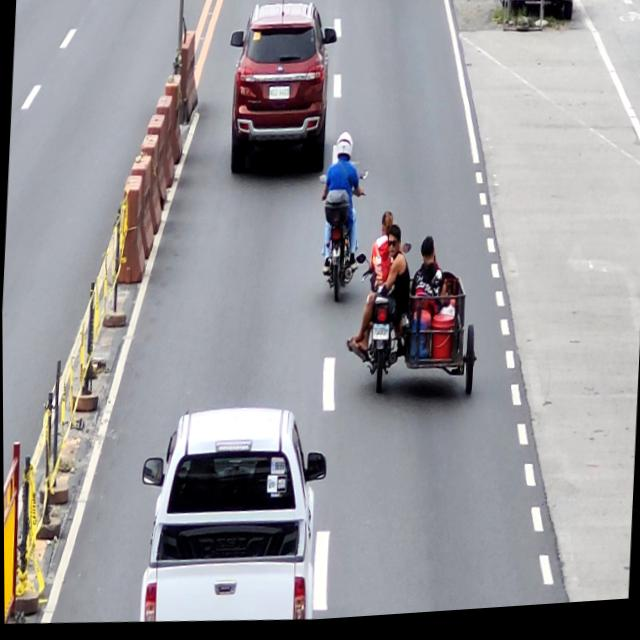Car: (134, 399, 329, 633), (223, 0, 340, 189)
License-Plate: (371, 328, 389, 347), (269, 90, 291, 105)
Motorcycle: (312, 171, 368, 313)
Tricycle: (350, 246, 482, 412)
